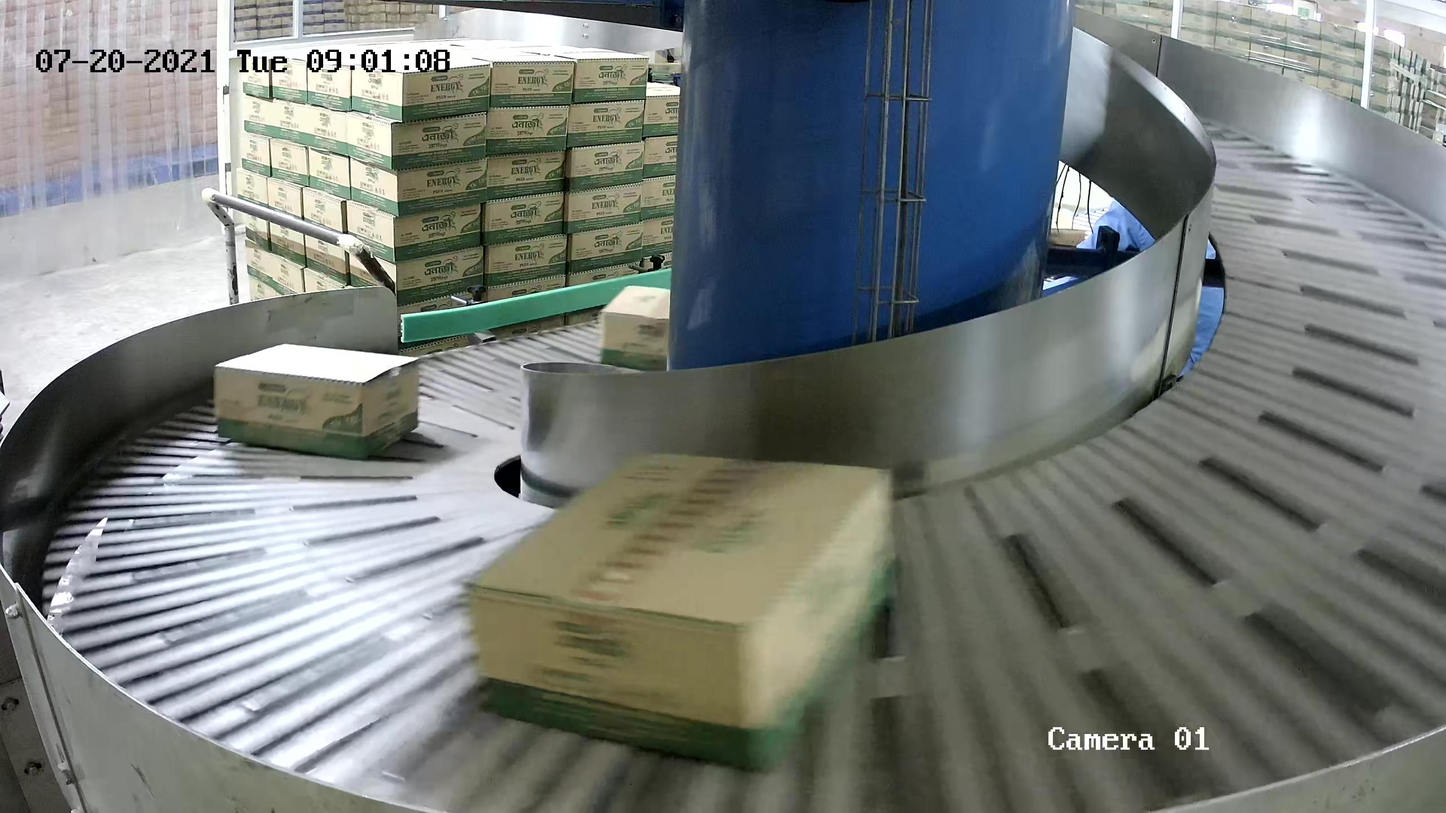Box: (458, 449, 897, 777), (212, 342, 421, 461), (598, 284, 671, 371)
